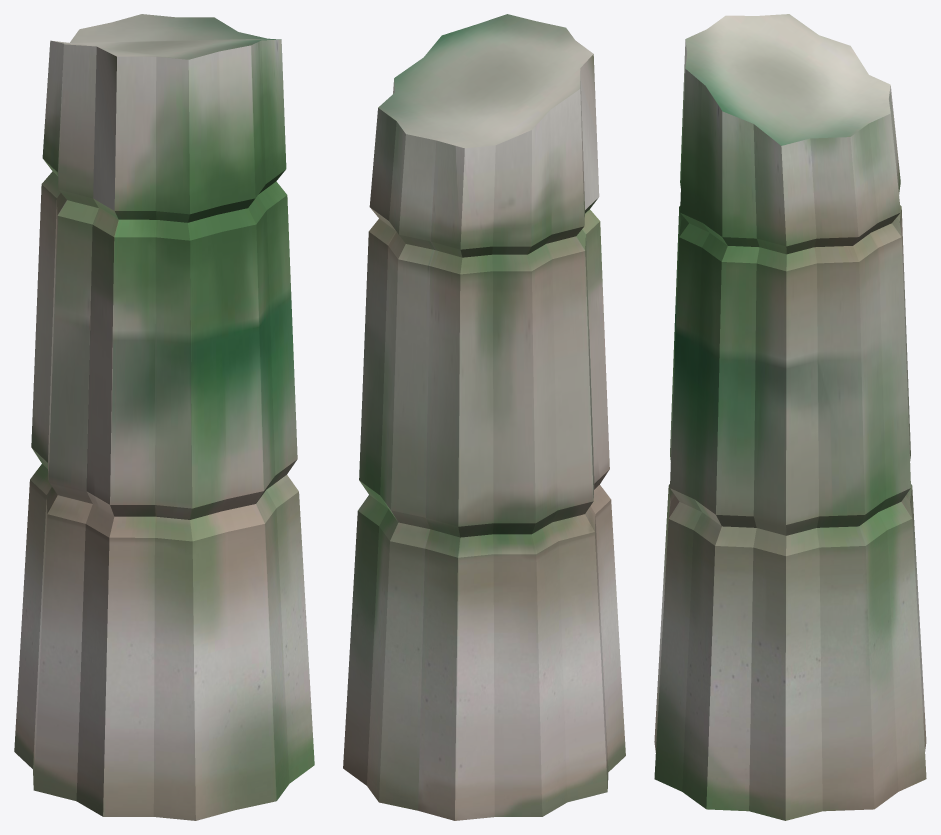
The model's file is 青苔柱子中.fbx.
The picture shows the model from 3 angles, left to right: view 1: azimuth 30°, elevation 25°; view 2: azimuth 150°, elevation 25°; view 3: azimuth 270°, elevation 25°; orthographic projection. The views are drawn at different scales.
Parts seen in each view (by area): view 1: 青苔柱子中.001; view 2: 青苔柱子中.001; view 3: 青苔柱子中.001.
Boxes of the visible parts, box(x1,y1,x2,y2) form: 青苔柱子中.001: box(14, 14, 314, 820); 青苔柱子中.001: box(343, 14, 625, 820); 青苔柱子中.001: box(654, 14, 926, 820).
Bounding box in the file's own units: 171 × 465 × 162.
1 material, 1 textured.
